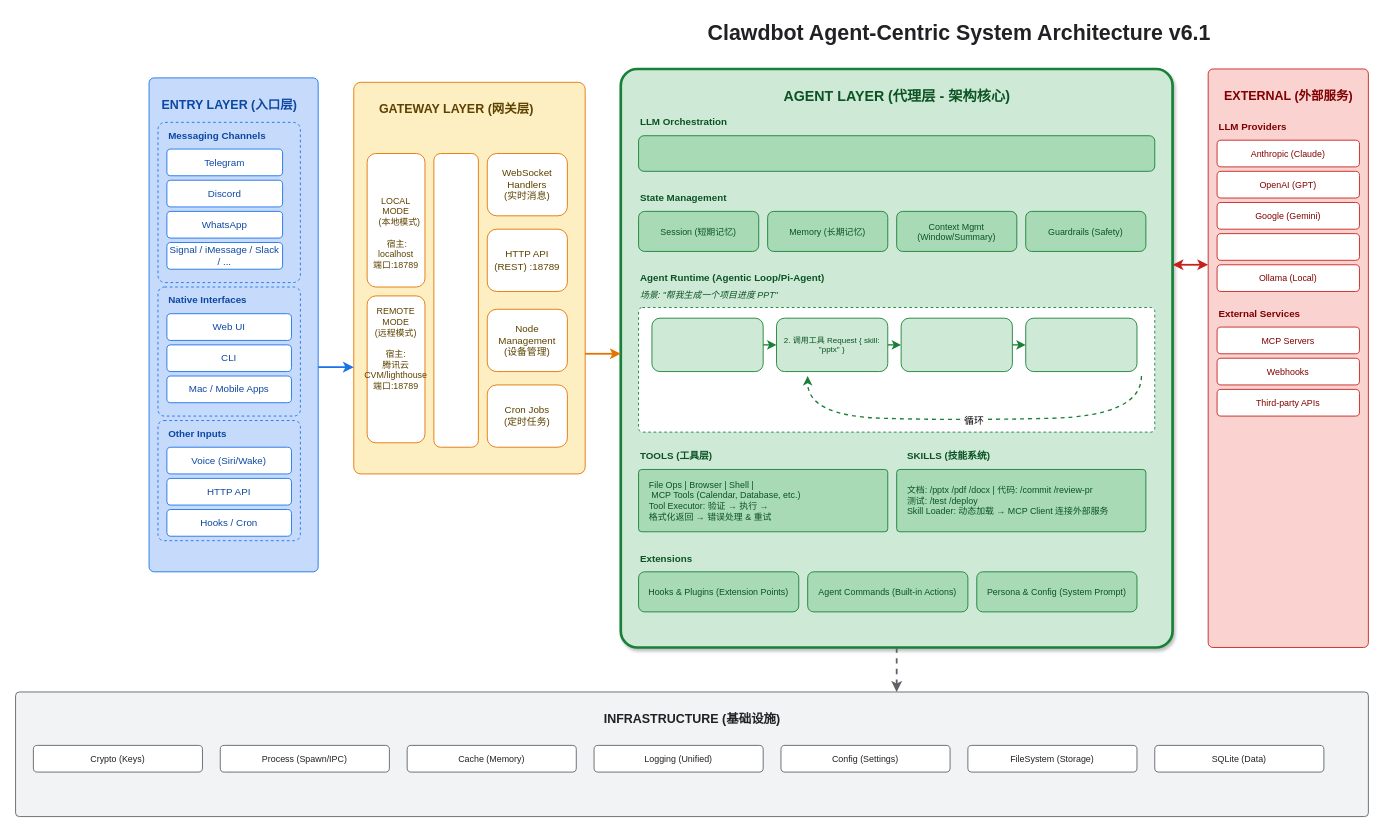
This 1384x832 diagram has some shape labels left out. Here are the shapes that lost their labels. From the top down, the centre of each, then its label:
point 896,153: Provider Router | Streaming | Model Selection | Fallback
point 1287,246: DeepSeek
point 455,300: TAIL SCALE VPN连接 内网连接
point 707,344: 1. 理解意图 Analyze 分析 → 需要 /pptx
point 956,344: 3. 执行工具 Execute 验证 + 执行
point 1081,344: 4. 返回/继续 Return/Loop 循环或回复
